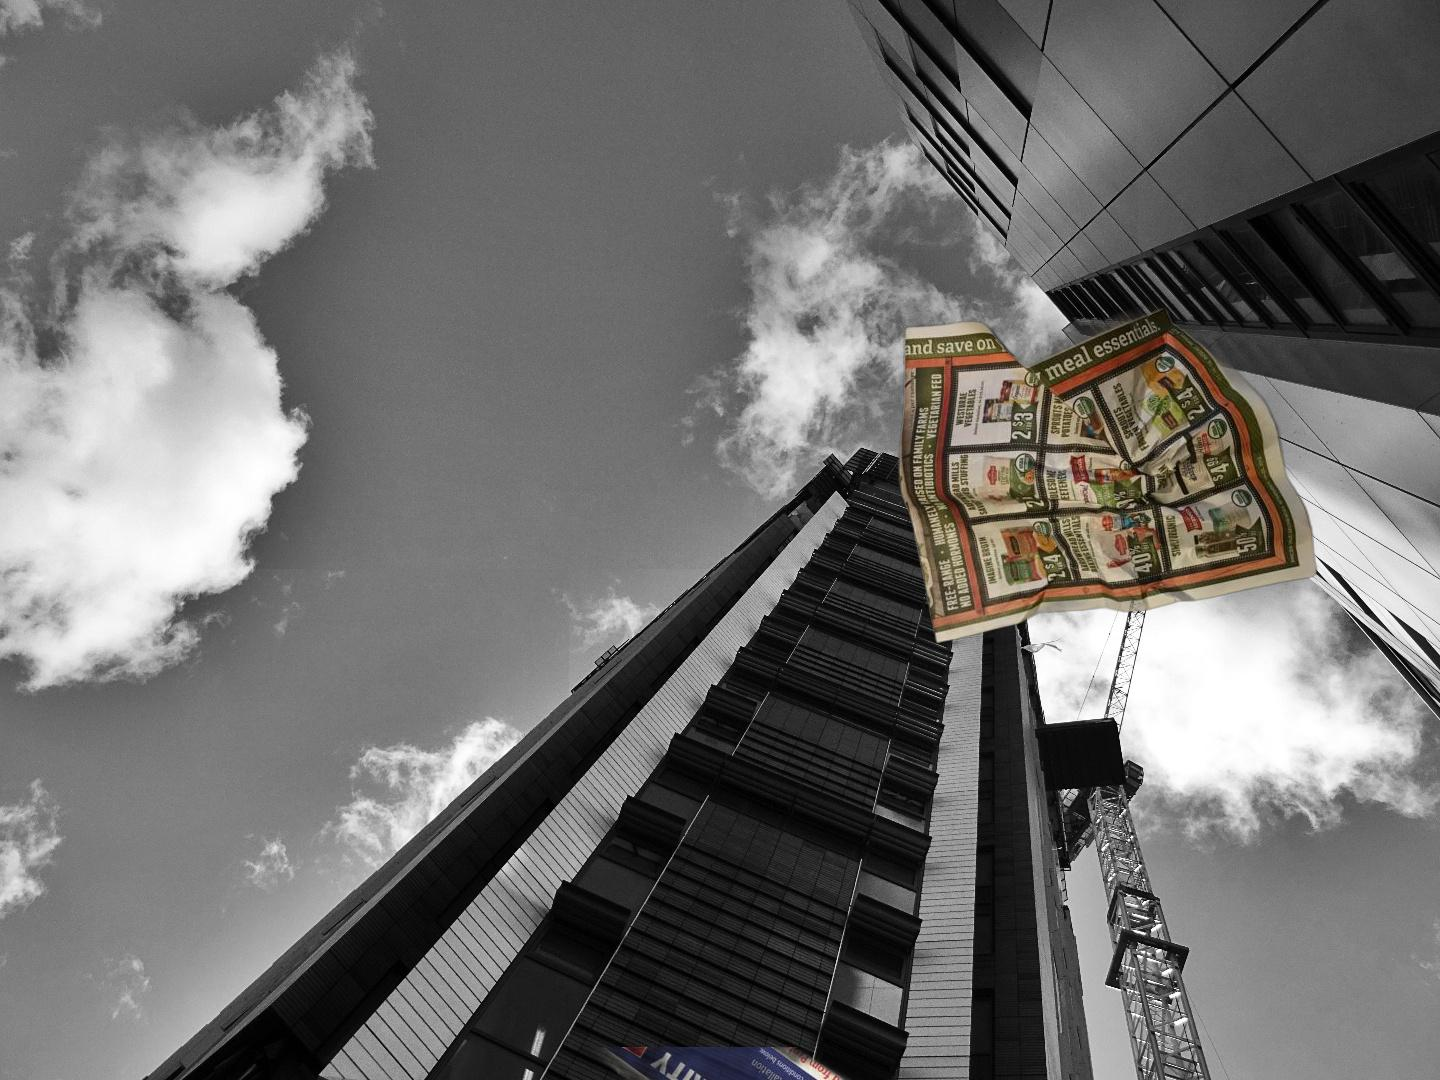paper: (893, 299, 1322, 647), (570, 1047, 1082, 1080)
